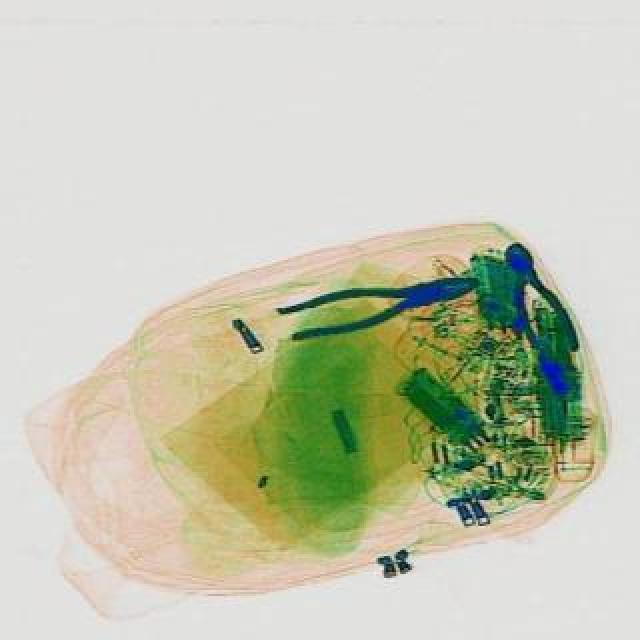wrench: (276, 256, 484, 346), (484, 234, 580, 364)
